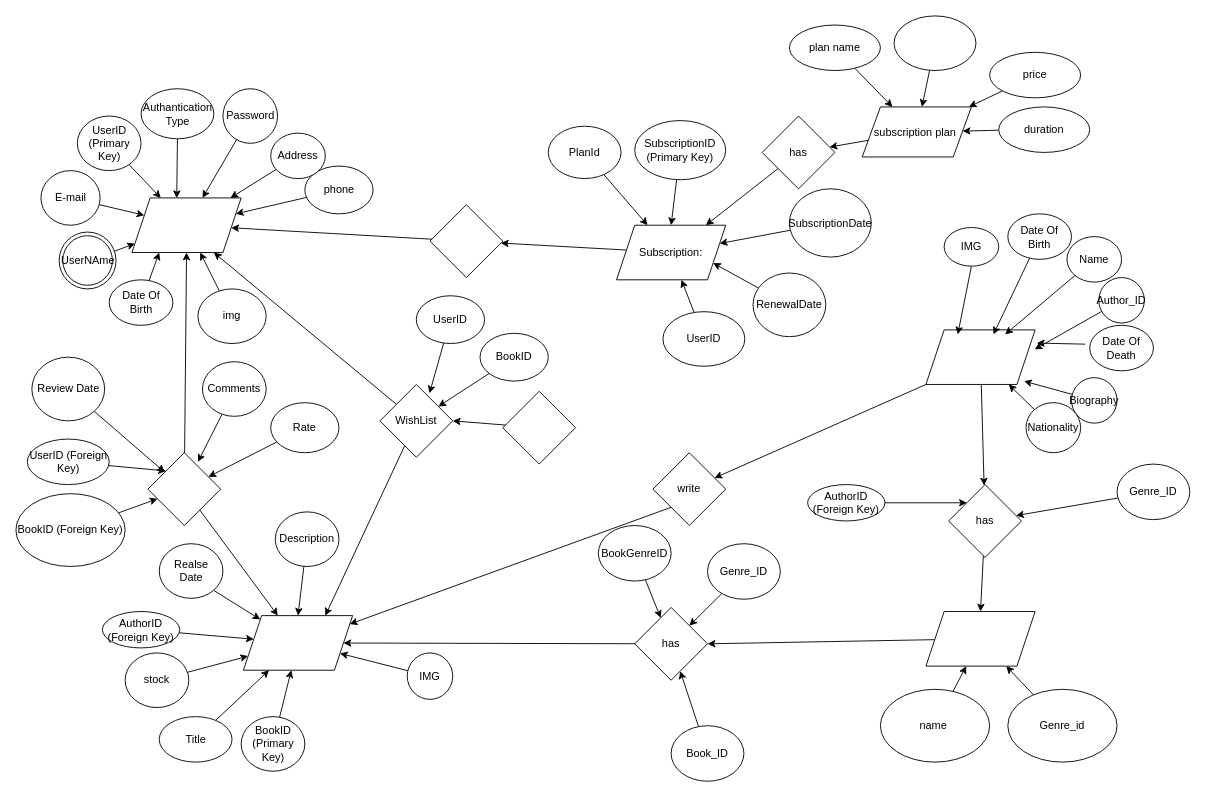
Some shapes in this 1206 by 797 pixel diagram are drawn without their labels. Each missing label, with the centre of its shape:
Author: point (980, 356)
Book: point (298, 642)
Genre: point (980, 638)
Review and Rating: point (184, 489)
Status: point (539, 427)
subscripe: point (466, 241)
subscription_id: point (934, 43)
User: point (186, 225)
